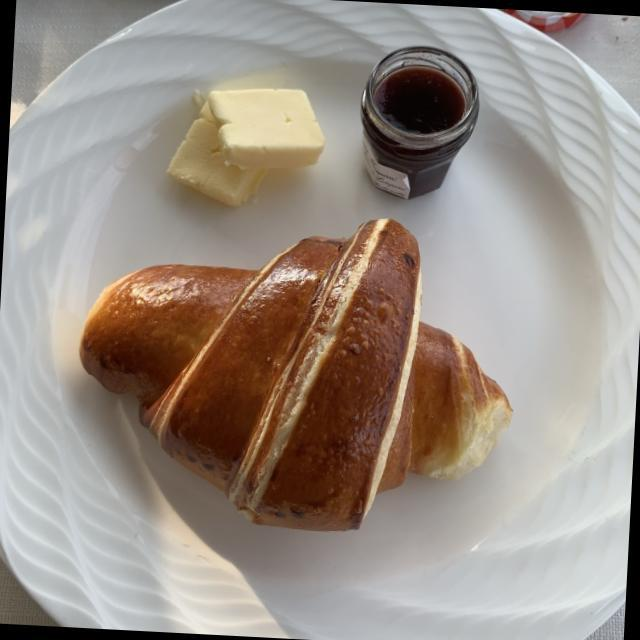Croissant: (55, 195, 528, 546)
